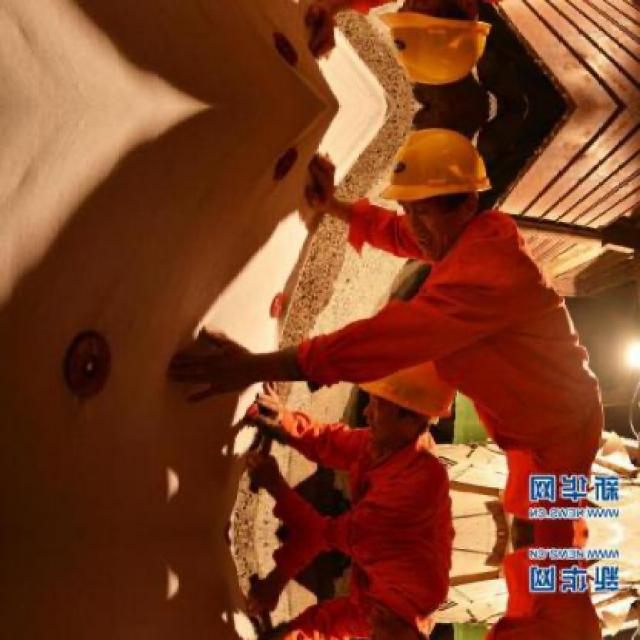helmet: (374, 117, 506, 256), (372, 0, 506, 97), (356, 362, 458, 453), (355, 614, 460, 638)
